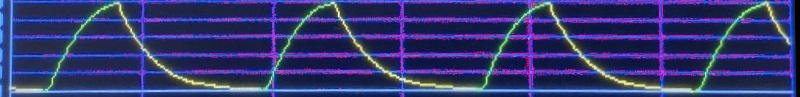normal_volume: (0, 0, 787, 95)
